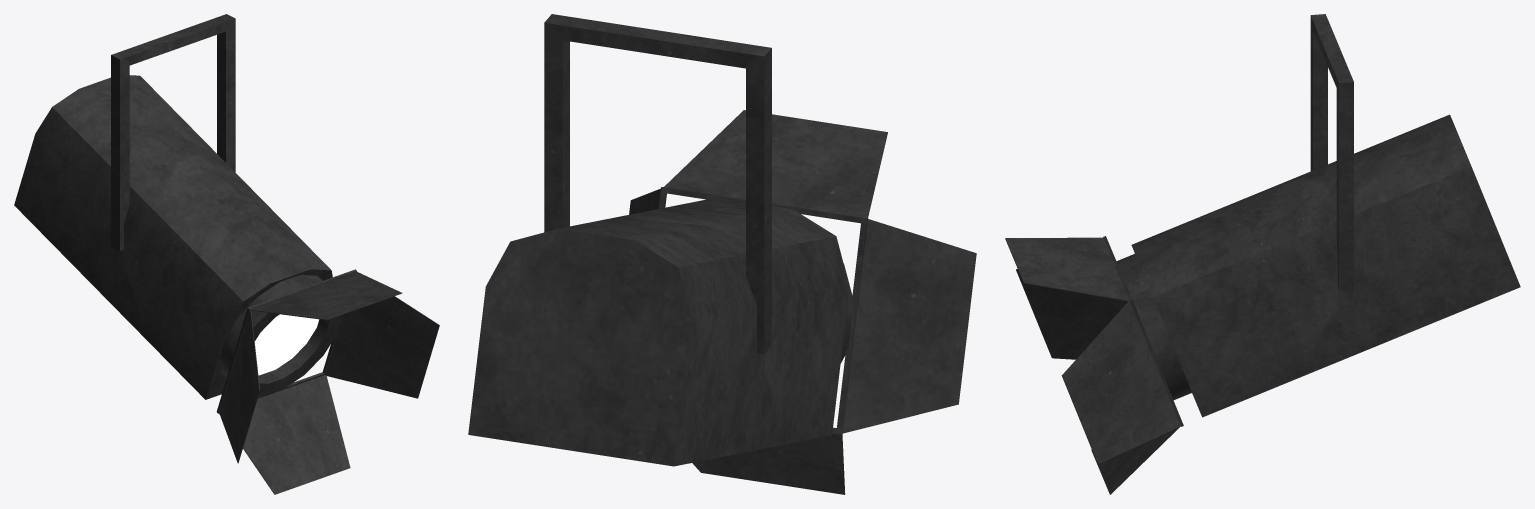
3 renders of one model, left to right at view 1: azimuth 30°, elevation 25°; view 2: azimuth 150°, elevation 25°; view 3: azimuth 270°, elevation 25°, orthographic. The views are drawn at different scales.
Visible parts, largest first — view 1: Cube_020; view 2: Cube_020; view 3: Cube_020.
Boxes of the visible parts, box(x1,y1,x2,y2) form: Cube_020: box(14, 14, 439, 494); Cube_020: box(468, 14, 976, 494); Cube_020: box(1005, 14, 1520, 494).
Bounding box in the file's own units: 0.3717 × 0.5869 × 0.6742.
2 materials, 1 textured.
